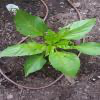Bell_pepper leaf spot: (13, 8, 48, 37), (49, 50, 81, 79), (0, 42, 47, 60), (58, 18, 96, 40), (43, 28, 59, 45), (54, 40, 80, 49)
